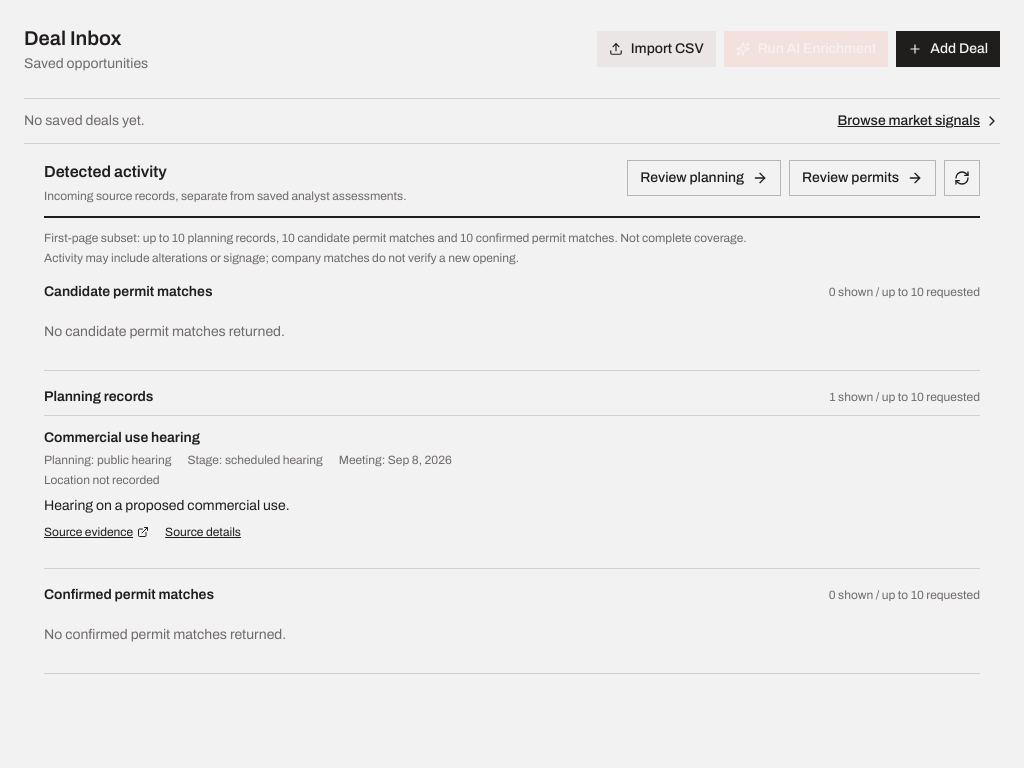
Source activity in empty saved workspaces › keeps Add Deal available without writing anything just by opening it
Expected: the element "Commercial use hearing" is shown, 44,415 -> 980,552
Click the button "Add Deal".
click(948, 49)  # box 896,31 -> 1000,67
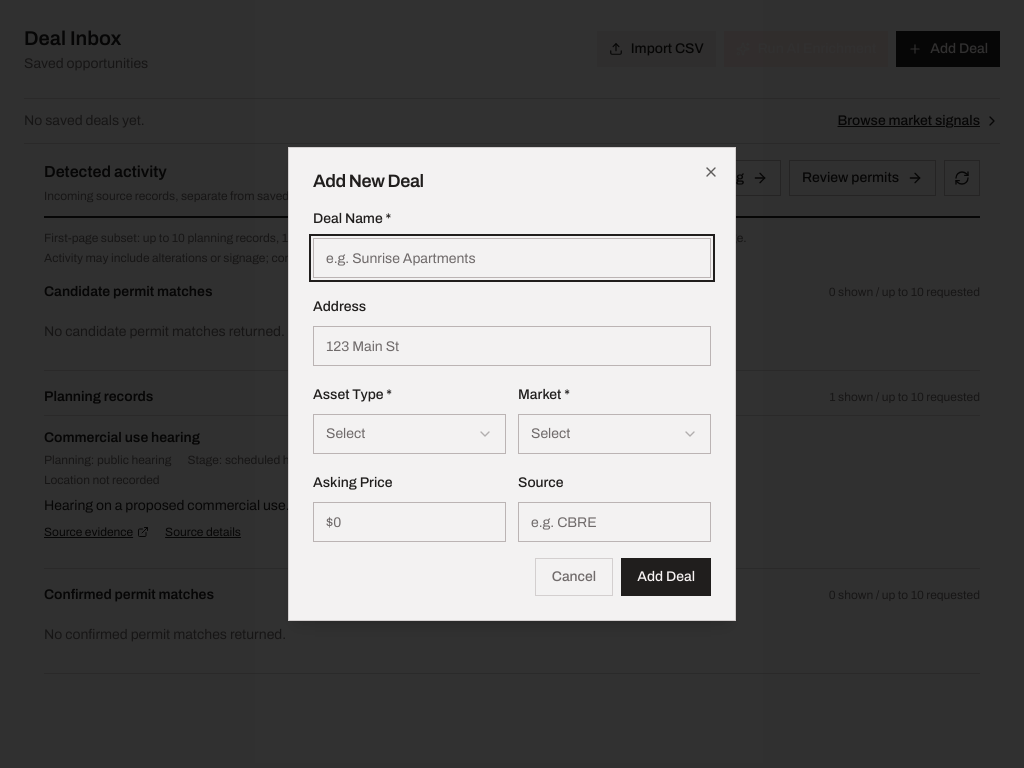
Now the dialog "Add New Deal" is shown, box 288,147 -> 736,621
Click the button "Cancel".
click(574, 577)  # box 535,558 -> 613,596
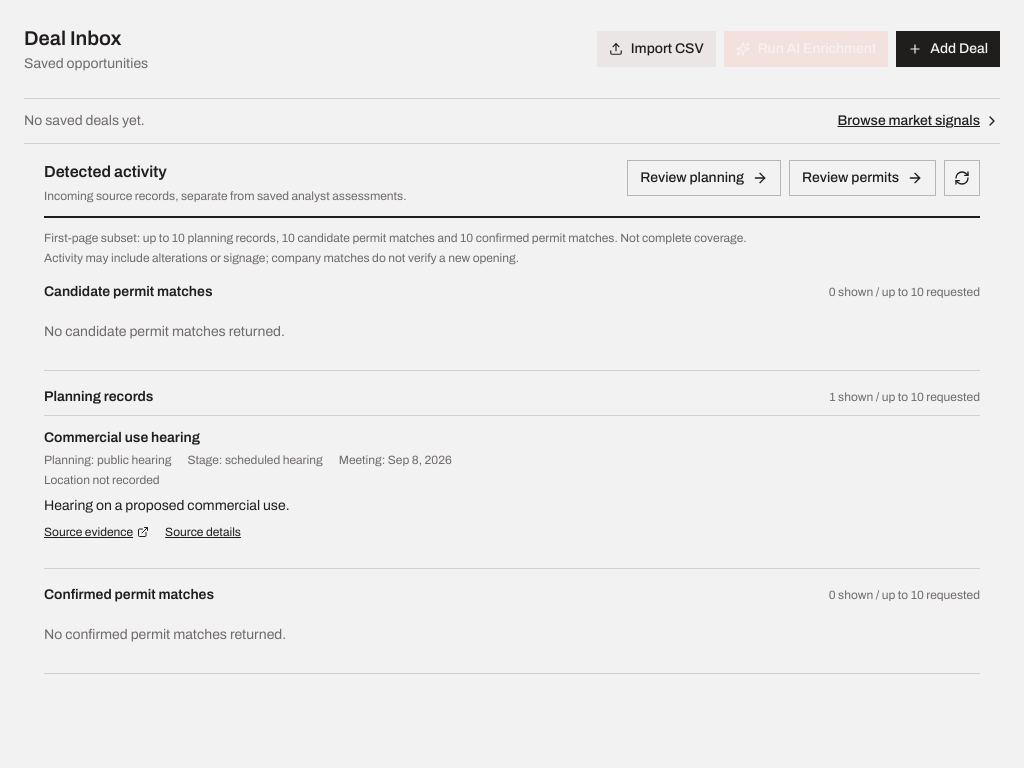
Now the dialog is gone
